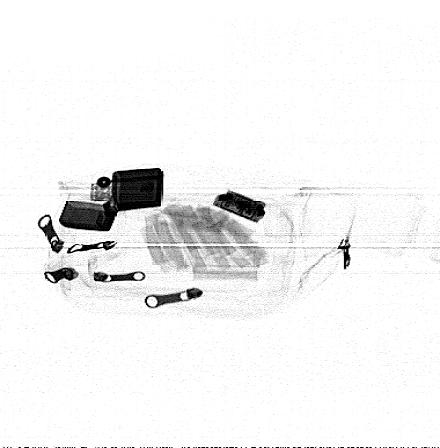Lighter: (58, 167, 164, 233)
